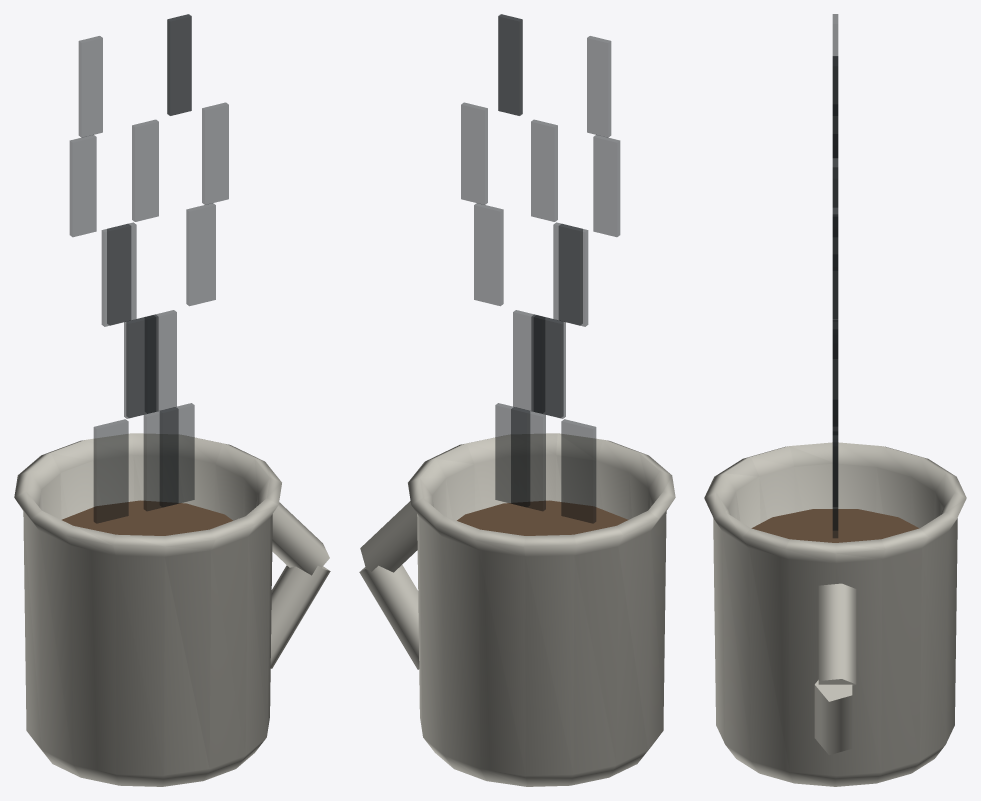
The model's file is camp_mug_a.glb.
3 renders of one model, left to right at view 1: azimuth 30°, elevation 25°; view 2: azimuth 150°, elevation 25°; view 3: azimuth 270°, elevation 25°, orthographic. The views are drawn at different scales.
Visible parts, largest first — view 1: body, steam; view 2: body, steam; view 3: body, steam.
Boxes of the visible parts, x1=… form: body: x1=14, y1=433, x2=330, y2=786; steam: x1=69, y1=14, x2=228, y2=523; body: x1=359, y1=433, x2=675, y2=786; steam: x1=461, y1=14, x2=620, y2=523; body: x1=704, y1=442, x2=966, y2=786; steam: x1=832, y1=14, x2=838, y2=538.
Size of the model in its own units: 0.1114 by 0.257 by 0.088.
